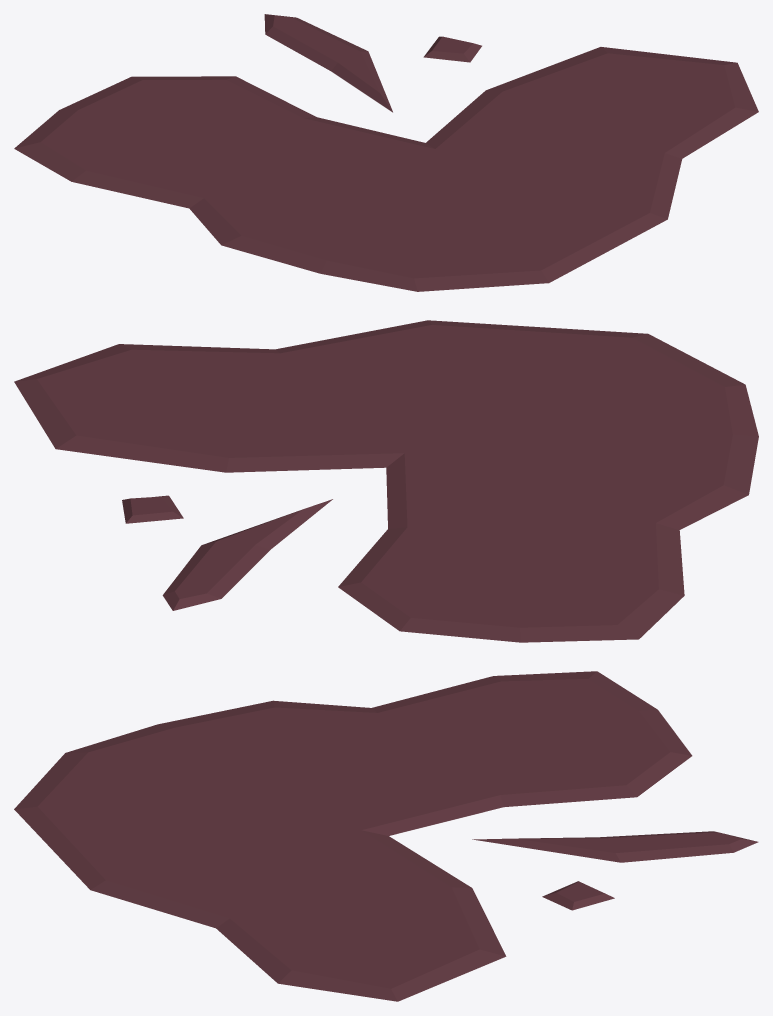
File: apocalypse-blood-c.glb
3 renders of one model, top to bottom at view 1: azimuth 30°, elevation 25°; view 2: azimuth 150°, elevation 25°; view 3: azimuth 270°, elevation 25°, orthographic. The views are drawn at different scales.
Parts seen in each view (by area): view 1: blood-c; view 2: blood-c; view 3: blood-c.
Boxes of the visible parts, <box> form: blood-c: <box>14,14,758,291</box>; blood-c: <box>14,320,758,642</box>; blood-c: <box>14,671,758,1001</box>.
Bounding box in the file's own units: 0.5805 × 0.00348 × 0.5529.
